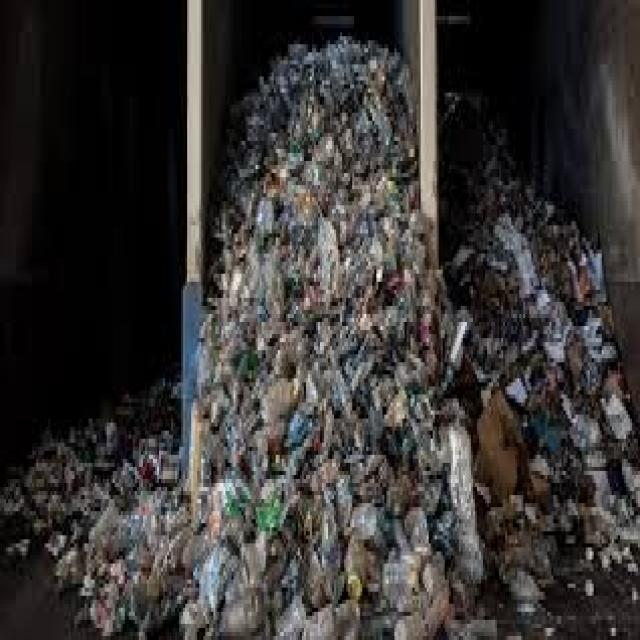heap: (214, 73, 416, 640)
